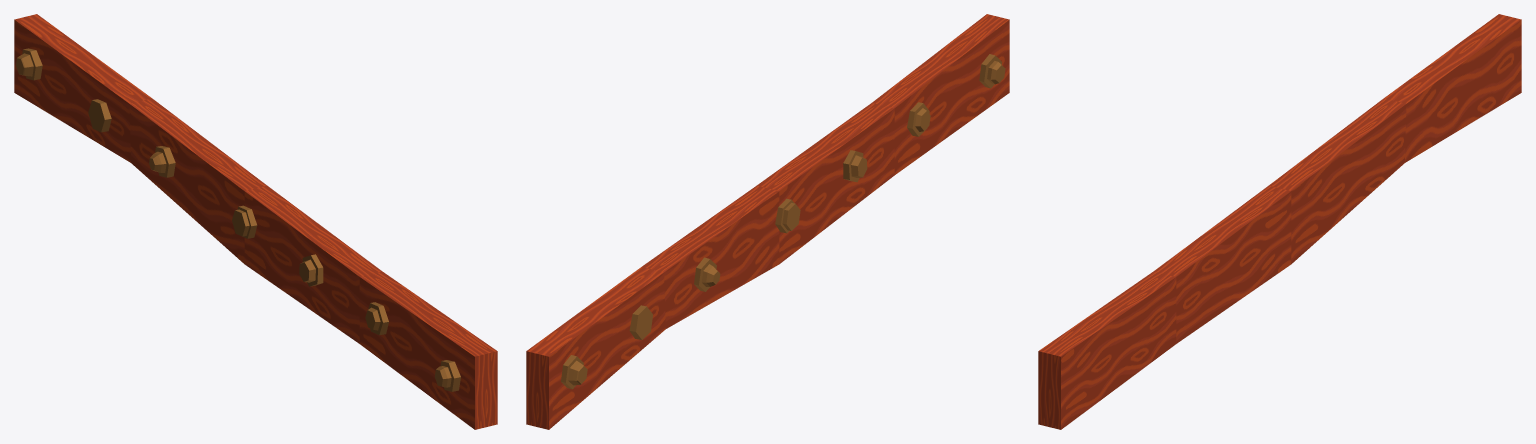
The model's file is Beam-1-Decoration-1.glb.
The picture shows the model from 3 angles, left to right: view 1: azimuth 30°, elevation 25°; view 2: azimuth 150°, elevation 25°; view 3: azimuth 330°, elevation 25°; orthographic projection.
Visible parts, largest first — view 1: Beam-1-Decoration-1, Cylinder.031, Cylinder.030, Cylinder.033, Cylinder.036, Cylinder.045, Cylinder.032, Cylinder.050; view 2: Beam-1-Decoration-1, Cylinder.031, Cylinder.036, Cylinder.030, Cylinder.033, Cylinder.045, Cylinder.032, Cylinder.050; view 3: Beam-1-Decoration-1.
Boxes of the visible parts, x1,y1,x2,y2 form: Beam-1-Decoration-1: (14, 14, 497, 429); Cylinder.031: (16, 48, 42, 80); Cylinder.030: (434, 360, 460, 391); Cylinder.033: (149, 146, 175, 177); Cylinder.036: (232, 205, 257, 238); Cylinder.045: (299, 254, 323, 286); Cylinder.032: (88, 99, 111, 132); Cylinder.050: (365, 302, 388, 335); Beam-1-Decoration-1: (526, 14, 1009, 429); Cylinder.031: (561, 355, 587, 389); Cylinder.036: (775, 198, 800, 233); Cylinder.030: (979, 54, 1005, 88); Cylinder.033: (694, 257, 720, 291); Cylinder.045: (843, 150, 867, 182); Cylinder.032: (629, 305, 652, 339); Cylinder.050: (907, 102, 930, 136); Beam-1-Decoration-1: (1038, 14, 1521, 429).
Bounding box in the file's own units: 0.264 × 0.5056 × 5.53.
Materials: 2 (1 with a texture image).
